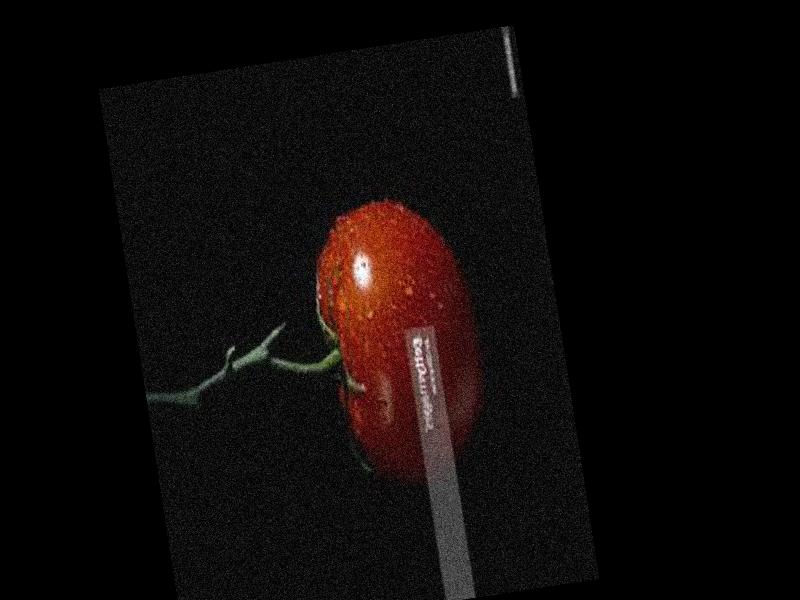Tomato: (306, 191, 492, 483)
